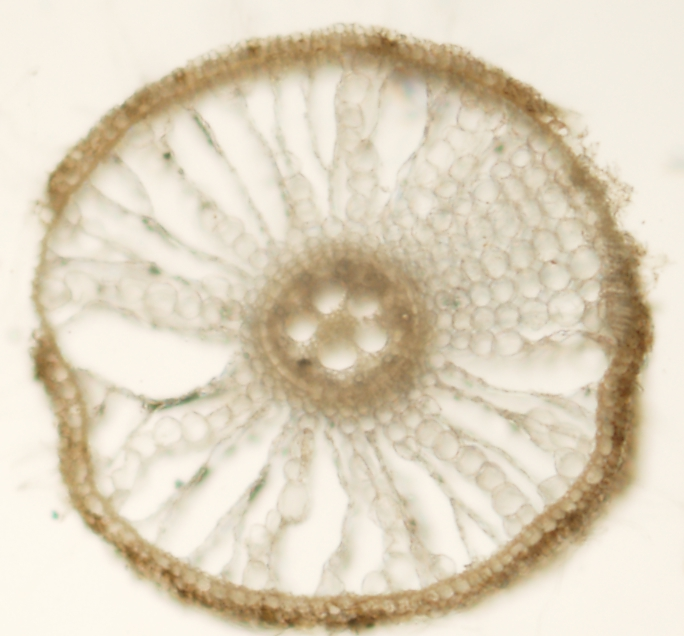lm: (311, 277, 348, 315), (317, 336, 358, 370), (285, 310, 319, 342), (353, 321, 388, 351), (346, 288, 380, 317)
